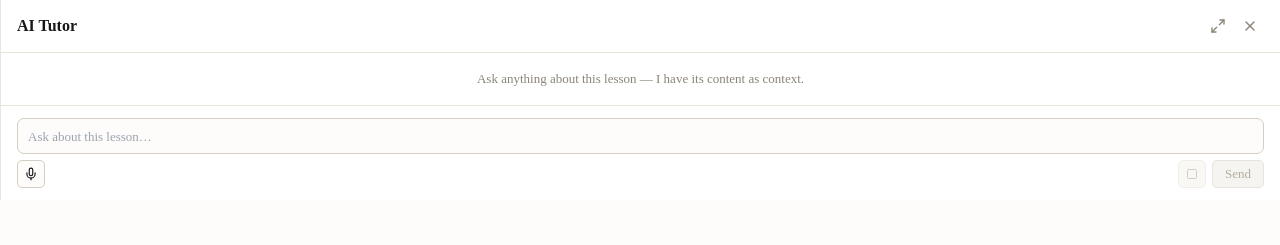
LessonChat (US-184) — Web Speech permission-denied error › renders the error chip with a microphone-access-denied message and leaves draft untouched
// Seed an existing draft to confirm it is NOT overwritten on error.
Step 1. Type "preserved draft" into the text box with test id "lesson-chat-textarea" → (640, 136), box [17,118,1264,154]
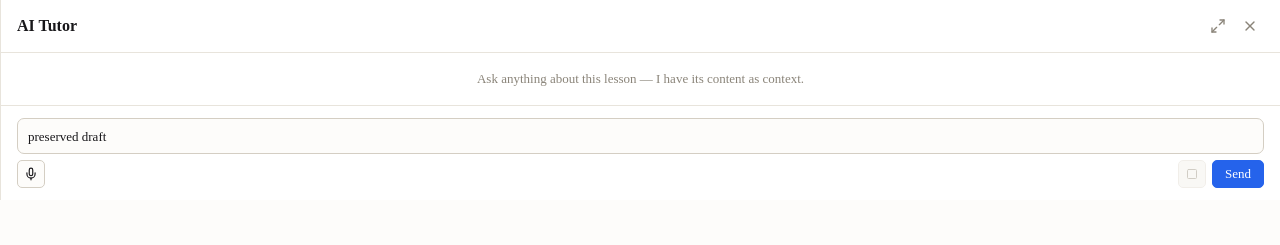
Step 2. Click the button with test id "lesson-chat-stt-toggle" → (31, 174), box [17,160,45,188]
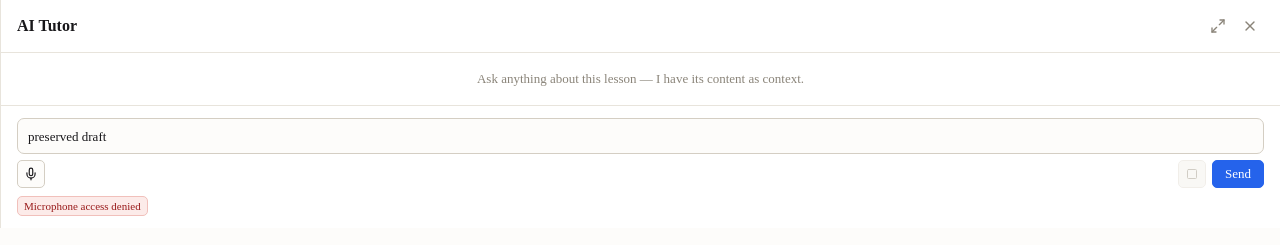
Now the message with test id "lesson-chat-stt-error" reads "Microphone access denied", box [24,200,141,212]
